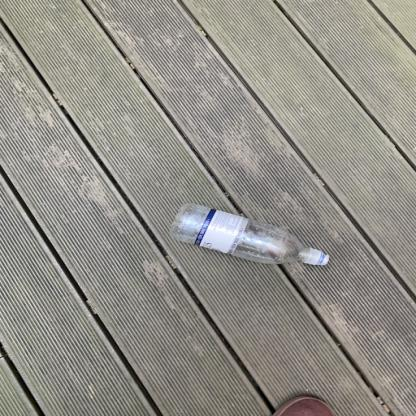trash: (168, 204, 332, 266)
